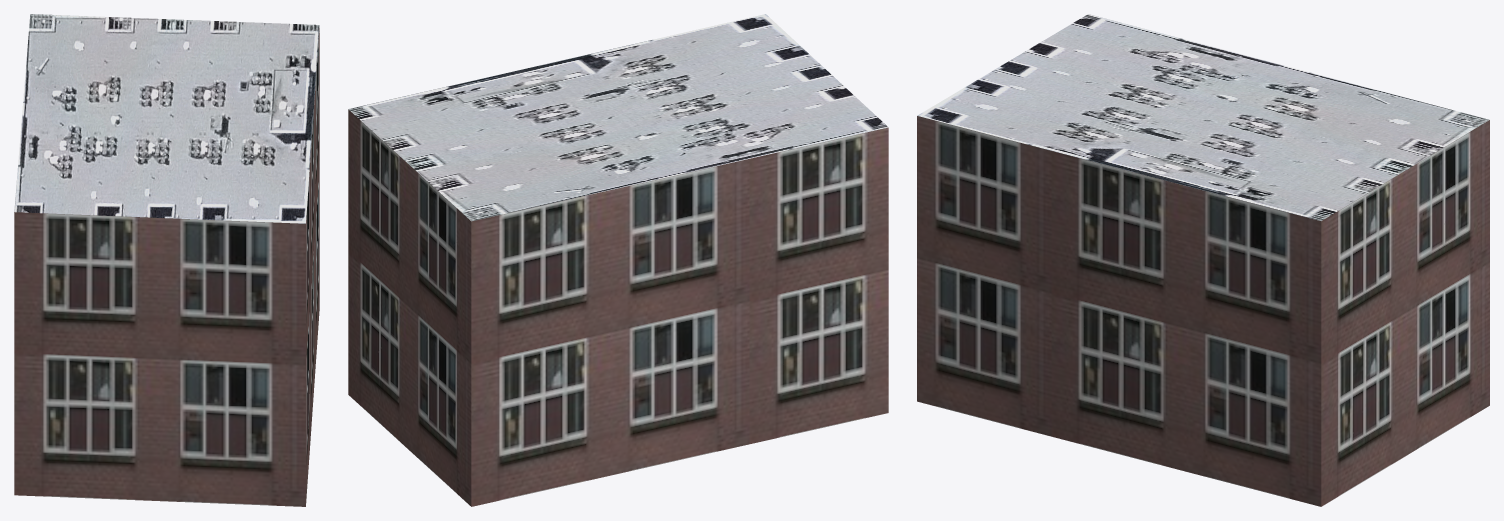
The model's file is ResTex__1071.fbx.
The picture shows the model from 3 angles, left to right: view 1: azimuth 30°, elevation 25°; view 2: azimuth 150°, elevation 25°; view 3: azimuth 270°, elevation 25°; orthographic projection.
Visible parts, largest first — view 1: CityEngineMaterial_12_m, CityEngineMaterial_4_m; view 2: CityEngineMaterial_12_m, CityEngineMaterial_4_m; view 3: CityEngineMaterial_12_m, CityEngineMaterial_4_m.
Part boxes in pixels (box(x1,y1,x2,y2)): CityEngineMaterial_12_m: box(14, 28, 319, 506); CityEngineMaterial_4_m: box(14, 14, 319, 223); CityEngineMaterial_12_m: box(348, 109, 888, 506); CityEngineMaterial_4_m: box(348, 14, 888, 221); CityEngineMaterial_12_m: box(917, 116, 1489, 506); CityEngineMaterial_4_m: box(917, 14, 1489, 220).
Size of the model in its own units: 9.33 by 6 by 10.9.
Materials: 2 (2 with a texture image).
